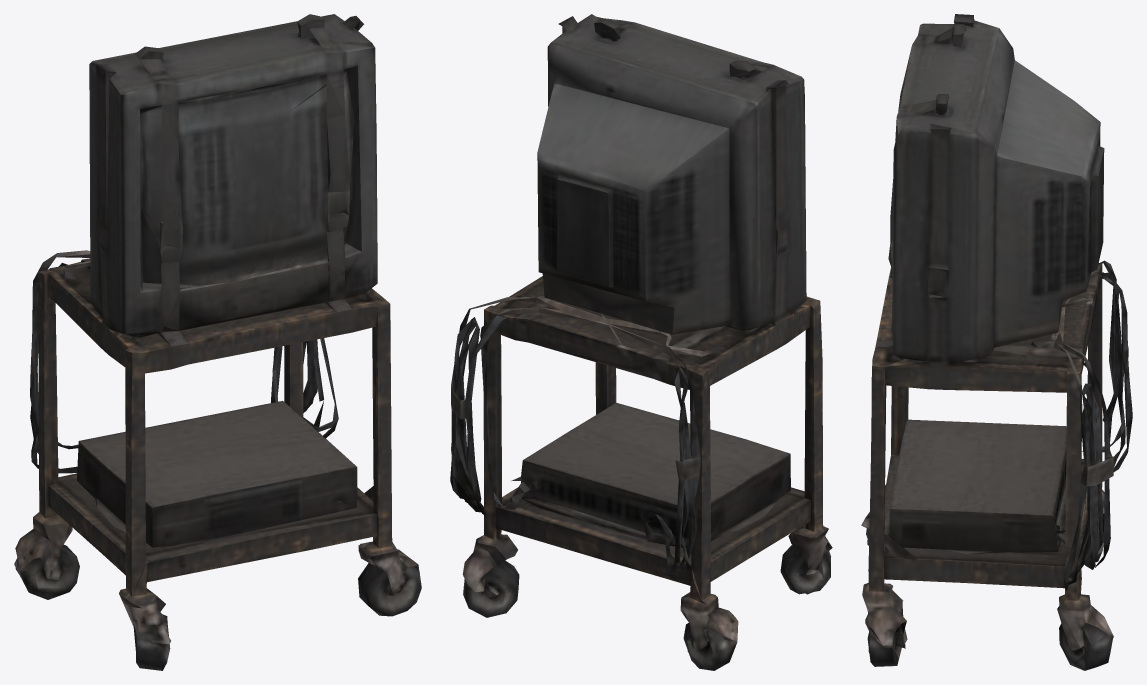
The model's file is p7-crt-tv-cart.glb.
The picture shows the model from 3 angles, left to right: view 1: azimuth 30°, elevation 25°; view 2: azimuth 150°, elevation 25°; view 3: azimuth 270°, elevation 25°; orthographic projection. The views are drawn at different scales.
Parts seen in each view (by area): view 1: p7-crt-tv-cart; view 2: p7-crt-tv-cart; view 3: p7-crt-tv-cart.
Boxes of the visible parts, x1,y1,x2,y2 form: p7-crt-tv-cart: (14,14,421,670); p7-crt-tv-cart: (450,14,832,670); p7-crt-tv-cart: (861,14,1132,670).
Bounding box in the file's own units: 0.7147 × 1.3 × 0.5805.
Materials: 1 (1 with a texture image).
